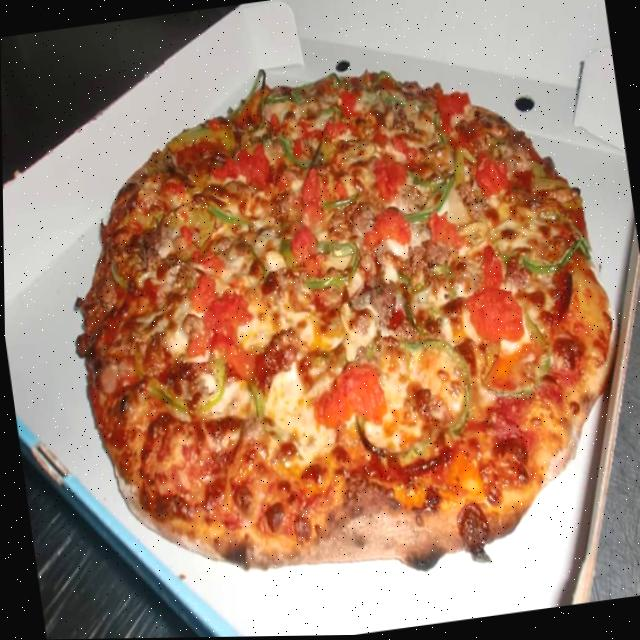pizza: (40, 35, 640, 616)
